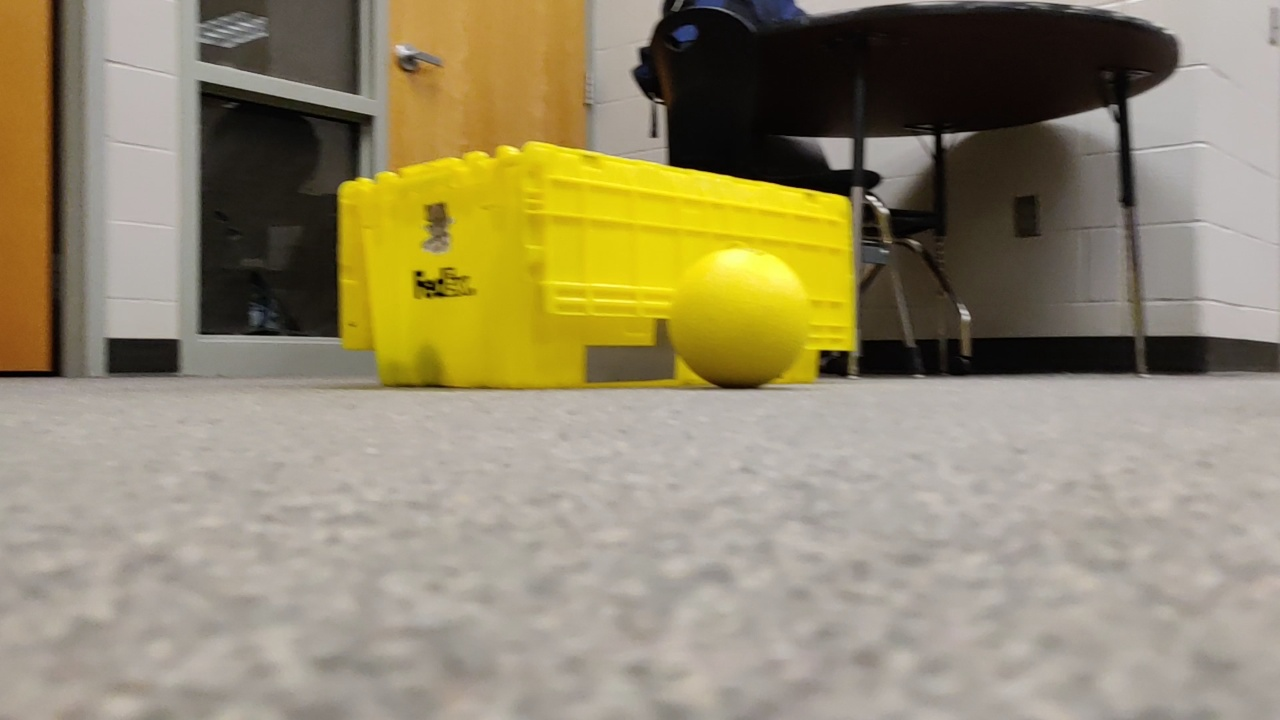Ball: (666, 243, 815, 395)
